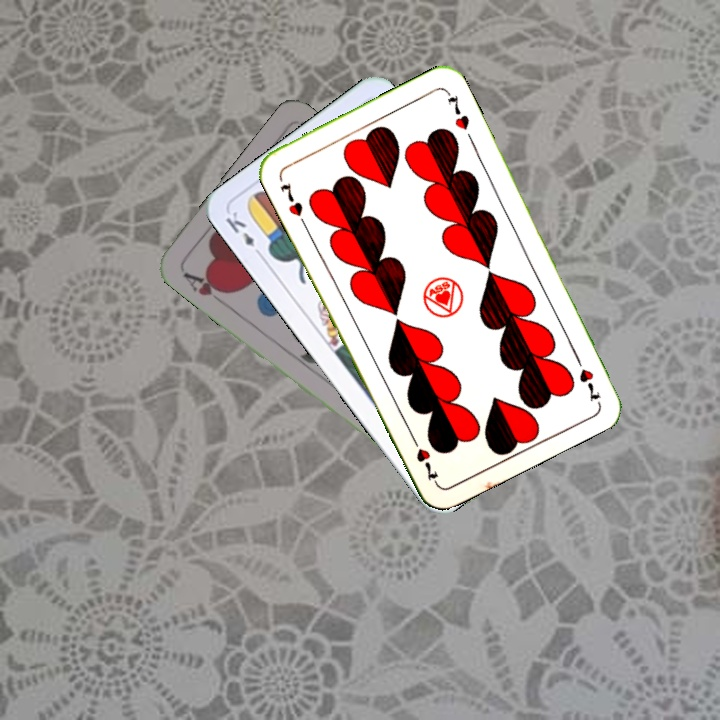EK: (221, 207, 266, 261)
H7: (570, 349, 603, 404), (276, 178, 305, 219)
HA: (179, 267, 232, 309)
